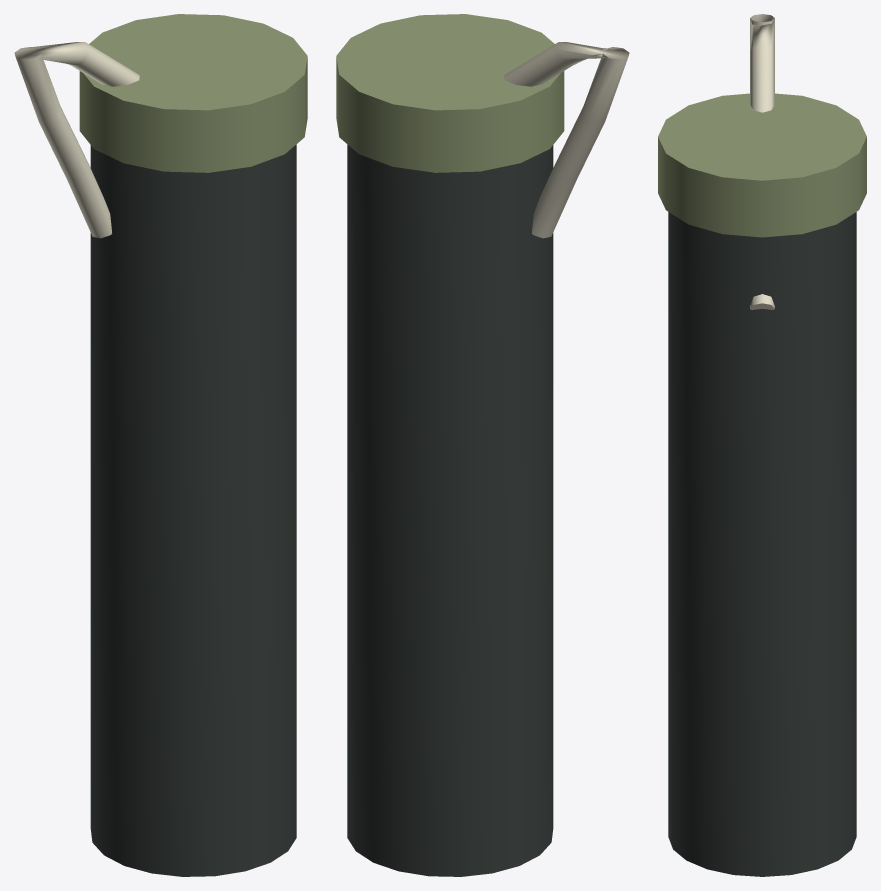
The model's file is backpacks-and-expedition-storage-waterproof-document-t-37f6f8d4__21097.glb.
3 renders of one model, left to right at view 1: azimuth 30°, elevation 25°; view 2: azimuth 150°, elevation 25°; view 3: azimuth 270°, elevation 25°, orthographic. The views are drawn at different scales.
Parts seen in each view (by area): view 1: waterproof-document-tube; view 2: waterproof-document-tube; view 3: waterproof-document-tube.
Boxes of the visible parts, <box> form: waterproof-document-tube: <box>14,14,307,876</box>; waterproof-document-tube: <box>336,14,629,876</box>; waterproof-document-tube: <box>658,14,866,876</box>.
Size of the model in its own units: 0.1393 by 0.3943 by 0.1.
